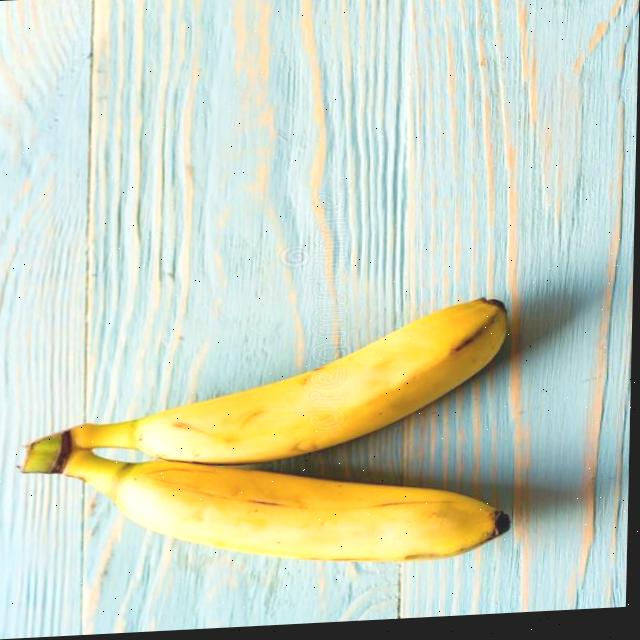banana: (9, 289, 524, 583)
